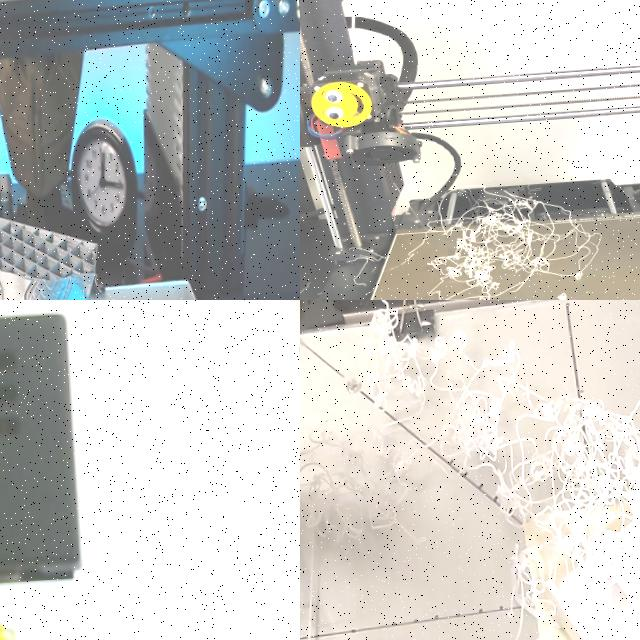spaghetti: (300, 300, 640, 640), (438, 188, 601, 293)
